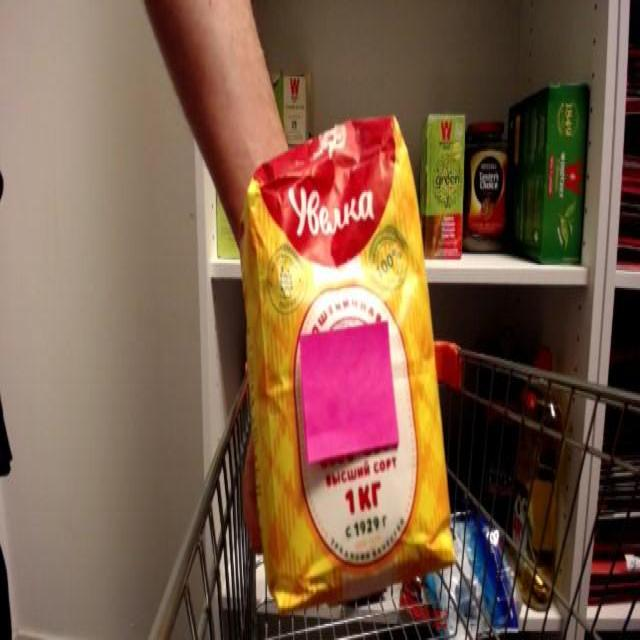Almond Milk: (234, 105, 460, 626)
